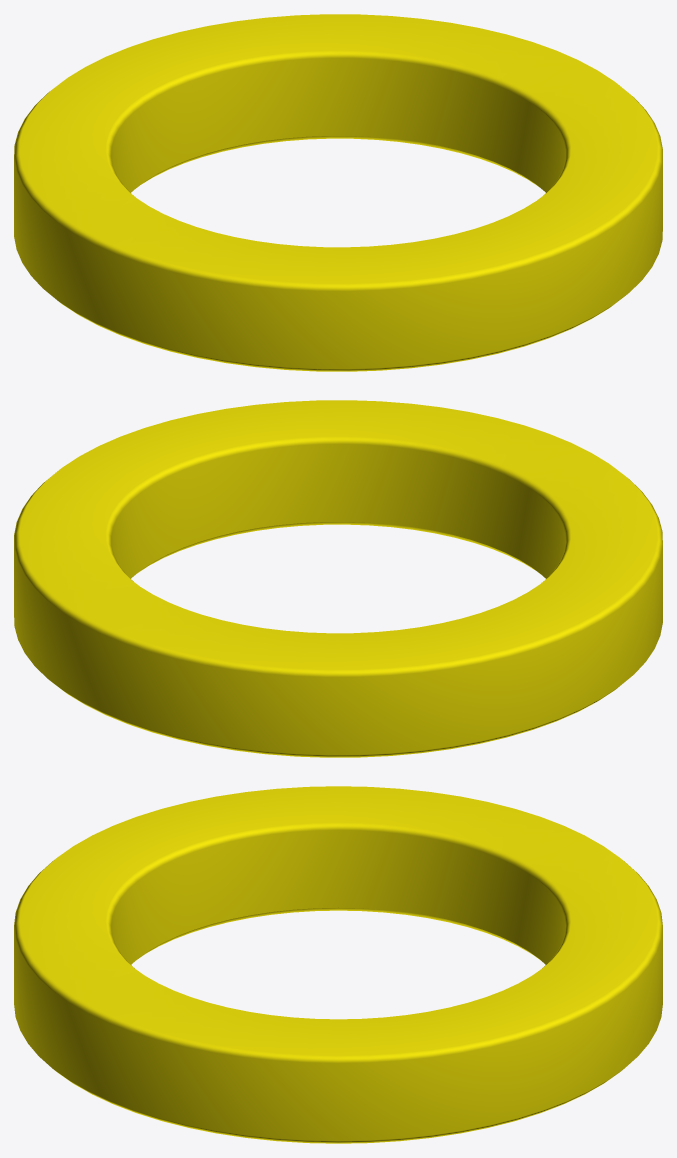
3 views of the same model, one above another, from view 1: azimuth 30°, elevation 25°; view 2: azimuth 150°, elevation 25°; view 3: azimuth 270°, elevation 25° (orthographic).
Visible parts, largest first — view 1: seal_body; view 2: seal_body; view 3: seal_body.
Boxes of the visible parts, bbox=[...] form: seal_body: bbox=[14, 14, 662, 371]; seal_body: bbox=[14, 400, 662, 757]; seal_body: bbox=[14, 786, 662, 1143].
Bounding box in the file's own units: 0.0318 × 0.00476 × 0.0318.
